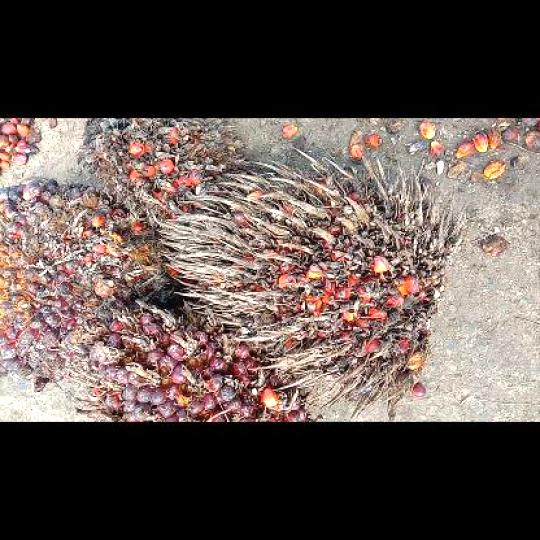masak: (0, 178, 179, 385), (68, 299, 308, 420)
terlalu masak: (159, 146, 464, 420), (78, 118, 244, 222)
